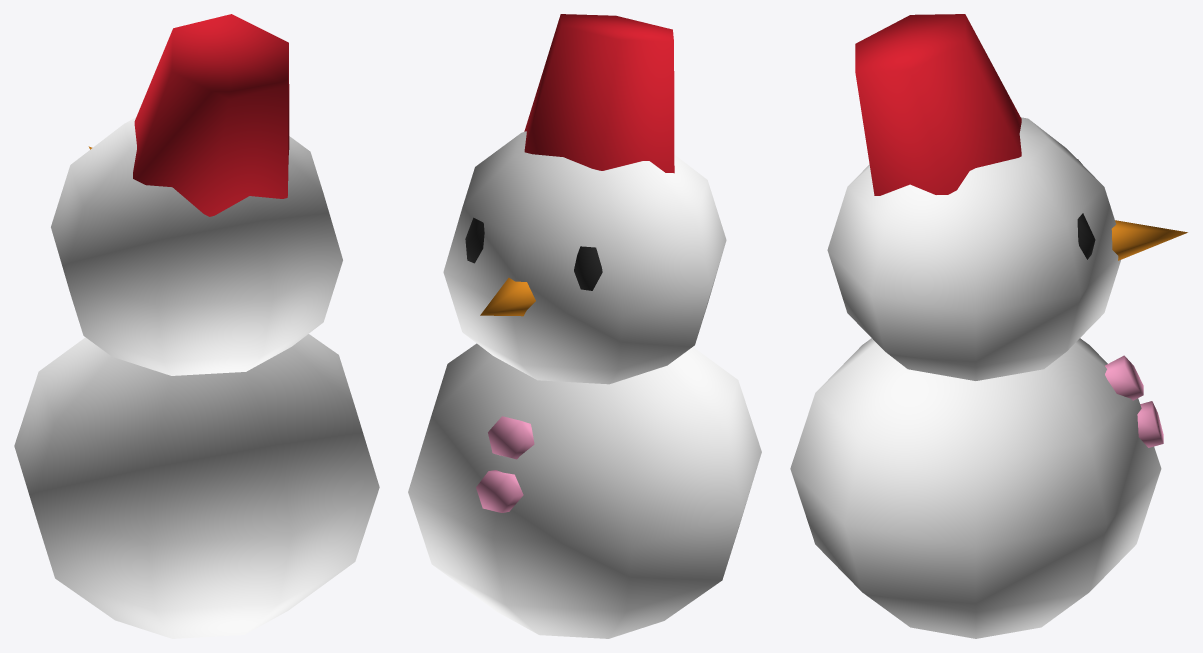
The model's file is ICON.ICO.obj.
3 views of the same model, side by side, from view 1: azimuth 30°, elevation 25°; view 2: azimuth 150°, elevation 25°; view 3: azimuth 270°, elevation 25° (orthographic). The views are drawn at different scales.
Bounding box in the file's own units: 1.22 × 2.14 × 1.3.
Materials: 1 (1 with a texture image).
